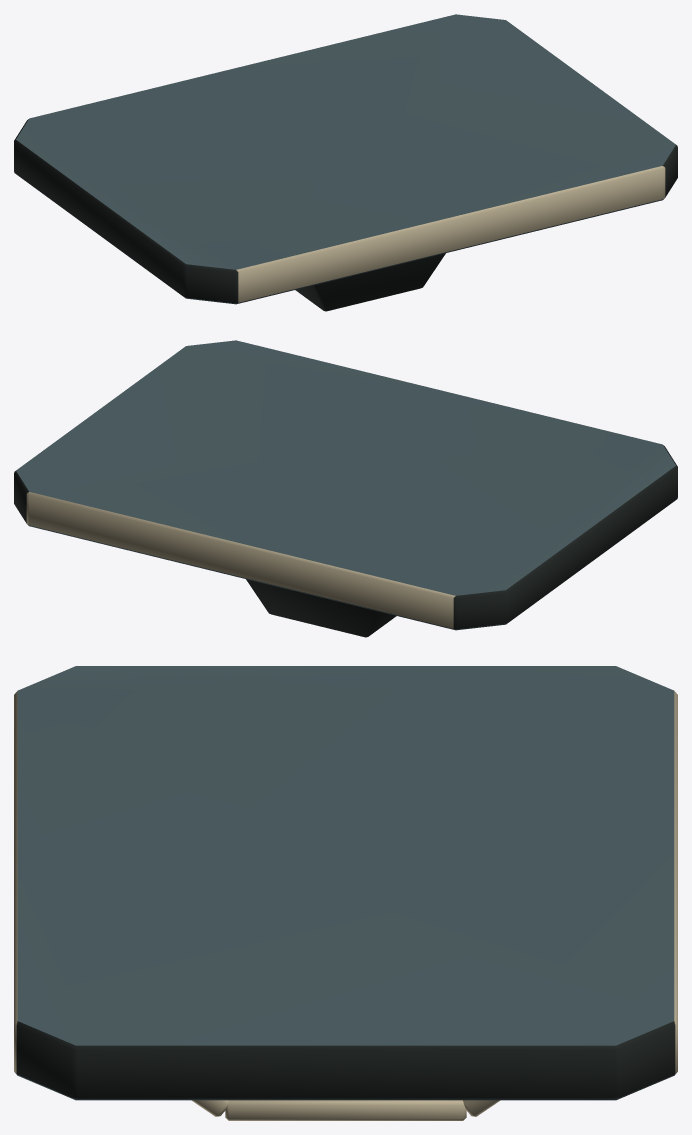
Rendered from sky_cradle.glb.
The picture shows the model from 3 angles, top to bottom: view 1: azimuth 30°, elevation 25°; view 2: azimuth 150°, elevation 25°; view 3: azimuth 270°, elevation 25°; orthographic projection. The views are drawn at different scales.
Visible parts, largest first — view 1: CradleHull; view 2: CradleHull; view 3: CradleHull.
Part boxes in pixels (bbox=[...]): CradleHull: bbox=[14, 14, 677, 311]; CradleHull: bbox=[14, 340, 677, 637]; CradleHull: bbox=[14, 666, 677, 1120].
Size of the model in its own units: 30 by 8 by 22.
